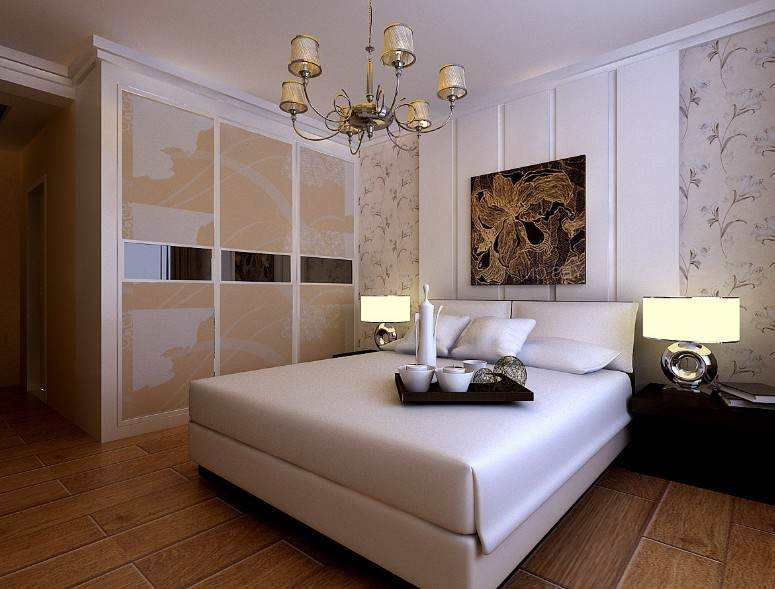床: (189, 343, 628, 568)
枕头: (420, 313, 613, 373)
灯: (264, 14, 462, 145), (634, 289, 744, 395), (355, 292, 409, 353)
